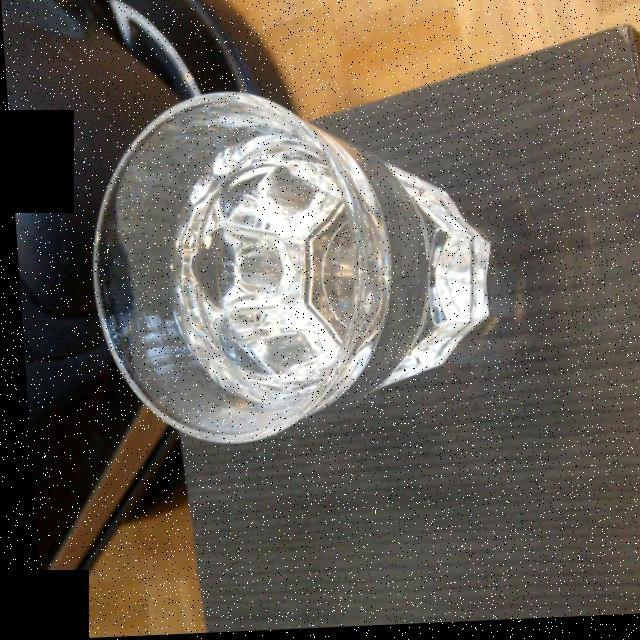water: (167, 139, 355, 408)
